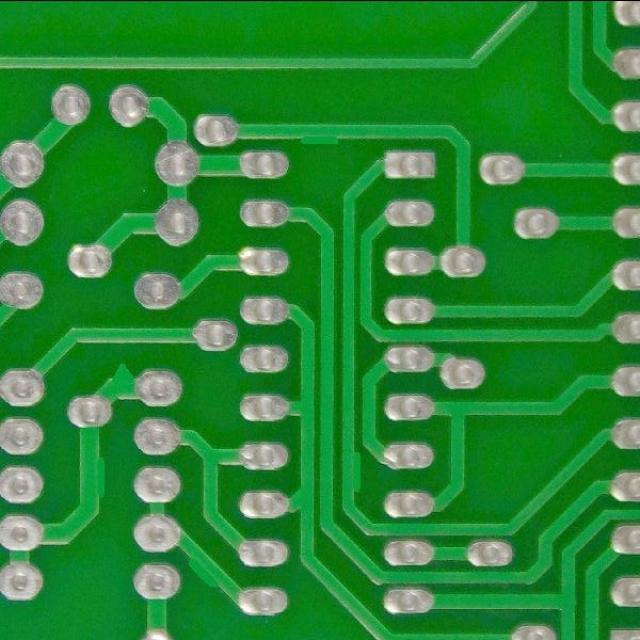spur: (67, 445, 113, 509), (184, 546, 221, 600), (104, 356, 140, 401), (339, 445, 366, 496), (296, 124, 344, 148)
